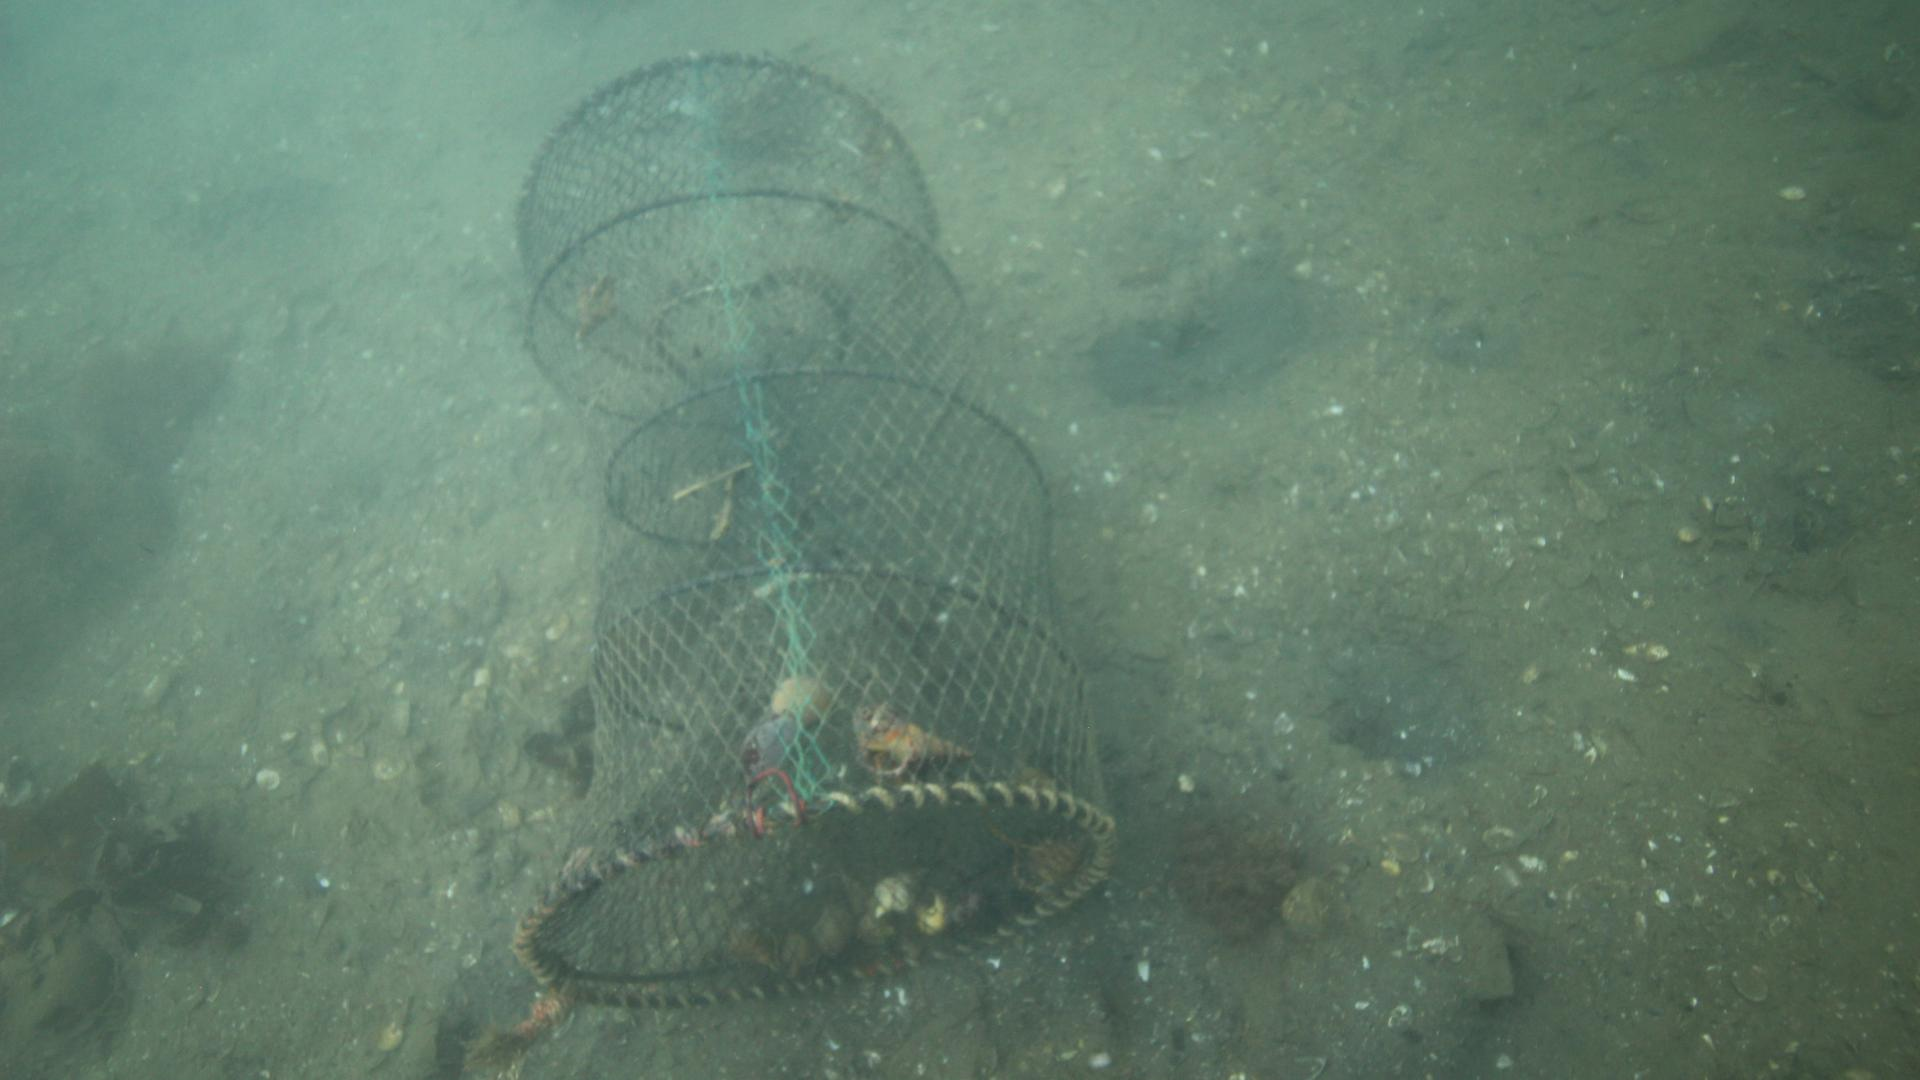spring fish trap: (509, 51, 1120, 1010)
